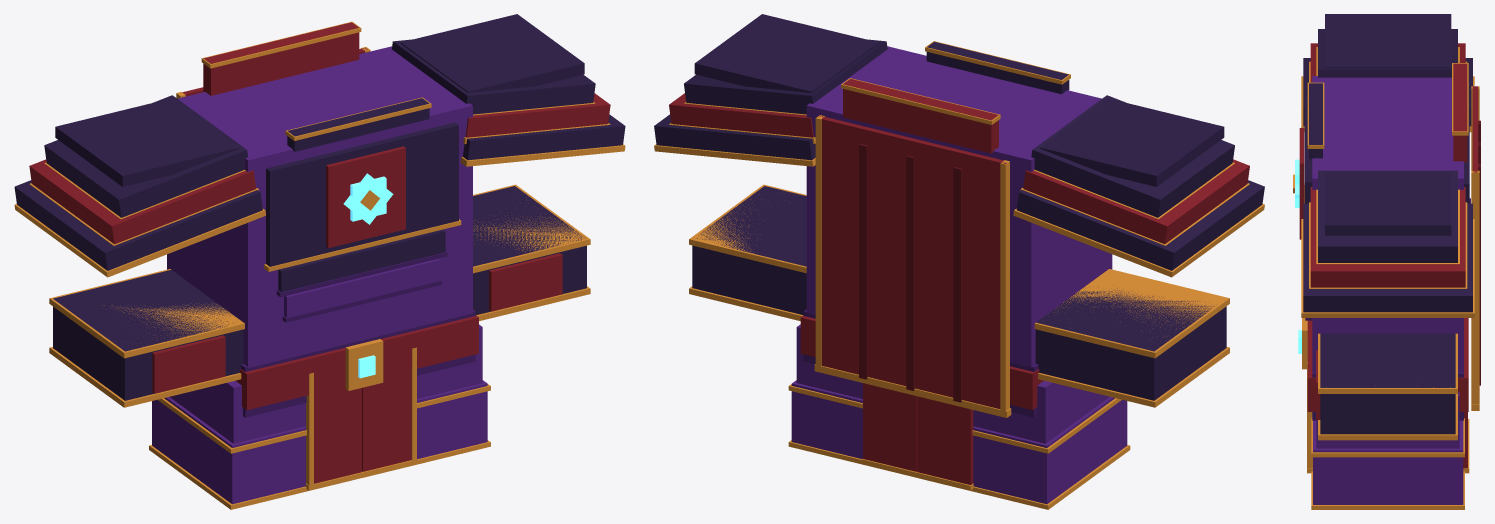
3 views of the same model, side by side, from view 1: azimuth 30°, elevation 25°; view 2: azimuth 150°, elevation 25°; view 3: azimuth 270°, elevation 25° (orthographic). The views are drawn at different scales.
Parts seen in each view (by area): view 1: mystic-robe; view 2: mystic-robe; view 3: mystic-robe.
Part boxes in pixels (x1,y1,x2,y2): mystic-robe: (14,14,625,509); mystic-robe: (654,14,1264,509); mystic-robe: (1293,14,1480,509).
Size of the model in its own units: 1.27 by 0.8814 by 0.425.
